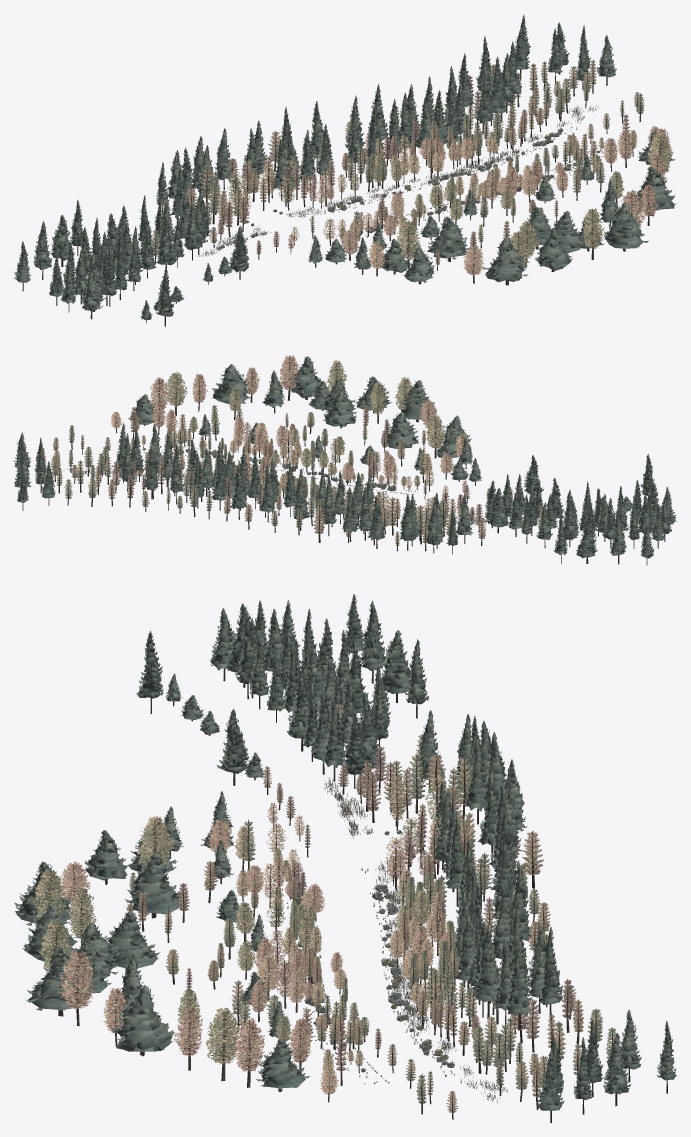
Rendered from forest.glb.
3 renders of one model, top to bottom at view 1: azimuth 30°, elevation 25°; view 2: azimuth 150°, elevation 25°; view 3: azimuth 270°, elevation 25°, orthographic. The views are drawn at different scales.
Parts seen in each view (by area): view 1: forest__06_시야틈새_식재, forest__19_360_수목_상부층, forest__12_배후_침엽수, forest__05_회화수목_공통, forest__15_카페주변_수목보강, forest__10_중경수목·갈대, forest__20_360_관목·하부층, forest__13_카페왼쪽_층별식재; view 2: forest__06_시야틈새_식재, forest__19_360_수목_상부층, forest__12_배후_침엽수, forest__05_회화수목_공통, forest__15_카페주변_수목보강, forest__10_중경수목·갈대, forest__13_카페왼쪽_층별식재, forest__20_360_관목·하부층; view 3: forest__06_시야틈새_식재, forest__19_360_수목_상부층, forest__05_회화수목_공통, forest__12_배후_침엽수, forest__10_중경수목·갈대, forest__15_카페주변_수목보강, forest__13_카페왼쪽_층별식재, forest__20_360_관목·하부층.
Boxes of the visible parts, box(x1,y1,x2,y2) form: forest__06_시야틈새_식재: box(14, 14, 616, 319); forest__19_360_수목_상부층: box(307, 126, 676, 285); forest__12_배후_침엽수: box(241, 36, 521, 200); forest__05_회화수목_공통: box(101, 92, 644, 326); forest__15_카페주변_수목보강: box(167, 121, 298, 225); forest__10_중경수목·갈대: box(151, 82, 630, 262); forest__20_360_관목·하부층: box(309, 122, 606, 241); forest__13_카페왼쪽_층별식재: box(170, 145, 260, 250); forest__06_시야틈새_식재: box(14, 404, 676, 565); forest__19_360_수목_상부층: box(110, 355, 482, 489); forest__12_배후_침엽수: box(116, 423, 374, 540); forest__05_회화수목_공통: box(53, 423, 656, 536); forest__15_카페주변_수목보강: box(341, 487, 456, 553); forest__10_중경수목·갈대: box(61, 407, 543, 545); forest__13_카페왼쪽_층별식재: box(410, 492, 489, 548); forest__20_360_관목·하부층: box(111, 446, 418, 508); forest__06_시야틈새_식재: box(125, 594, 676, 1122); forest__19_360_수목_상부층: box(14, 791, 407, 1102); forest__05_회화수목_공통: box(136, 618, 493, 1119); forest__12_배후_침엽수: box(428, 772, 562, 1030); forest__10_중경수목·갈대: box(241, 703, 511, 1102); forest__15_카페주변_수목보강: box(388, 721, 527, 874); forest__13_카페왼쪽_층별식재: box(333, 710, 487, 830); forest__20_360_관목·하부층: box(271, 868, 461, 1083).
Size of the model in its own units: 246 by 27.99 by 149.
